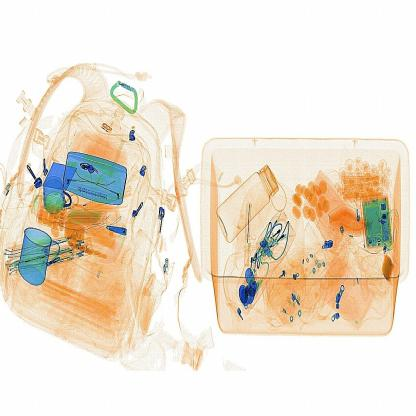pliers: (242, 203, 262, 274)
